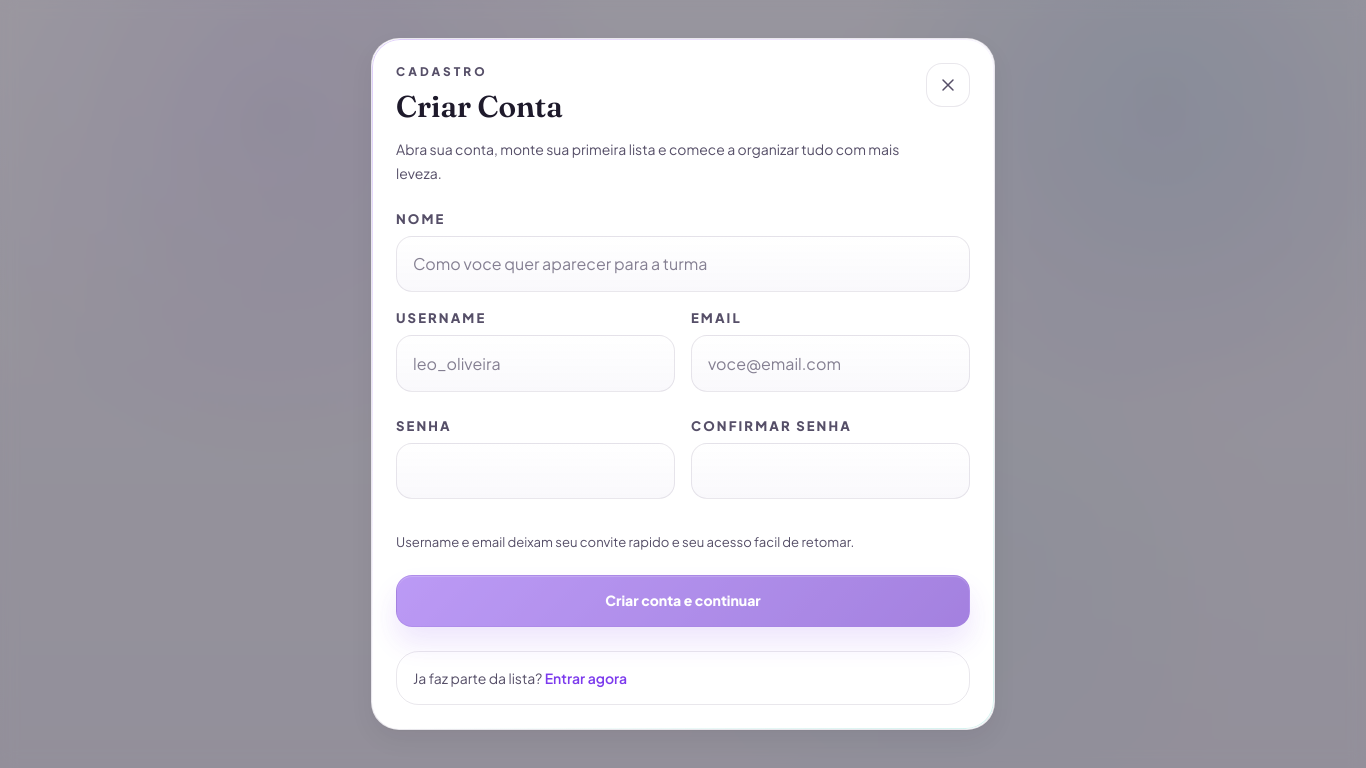
Test: RegisterModal › mostra erro retornado pela API quando o cadastro falha
This screenshot has width=1366, height=768.
Type "leo_user" into the field labelled "Username". click: (536, 364)
box: [396,335,675,392]
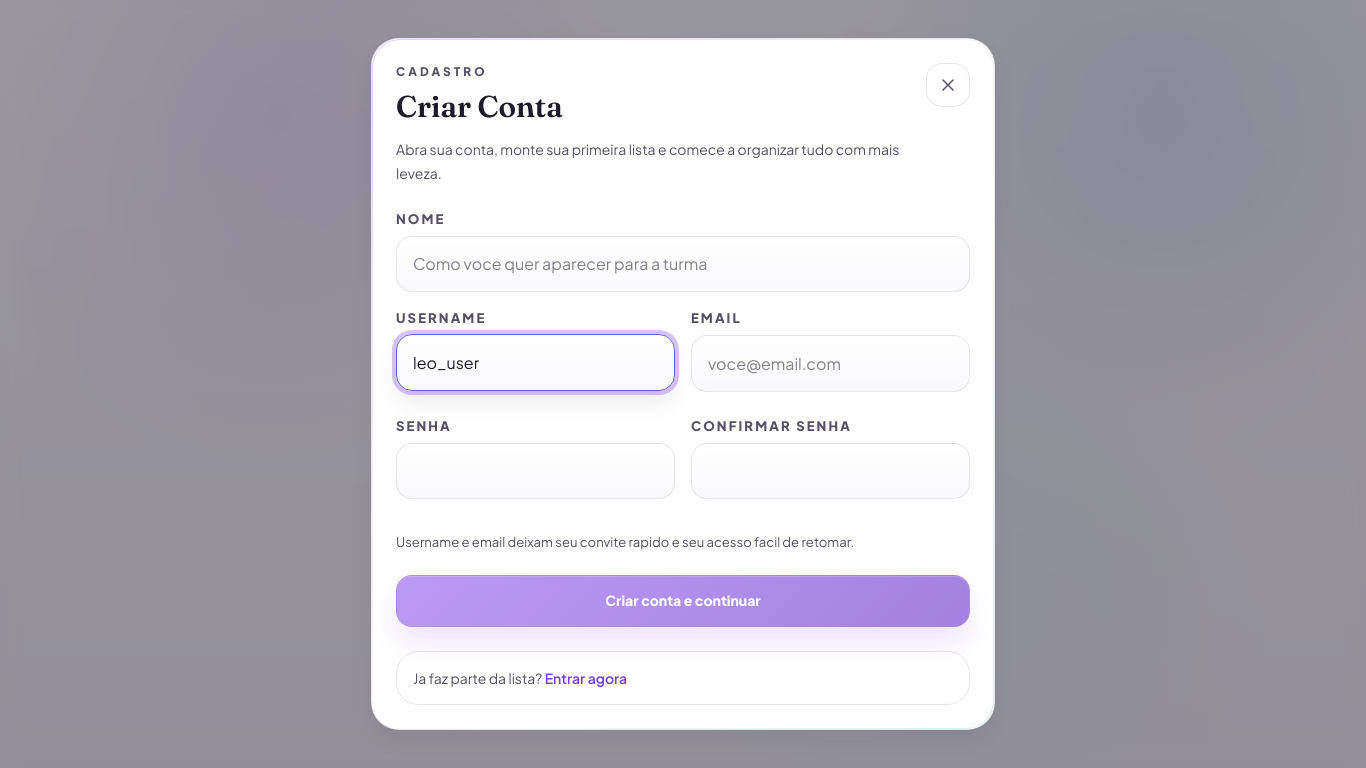
Type "leo@test.com" into the field labelled "Email". click: (830, 364)
box: [691,335,970,392]
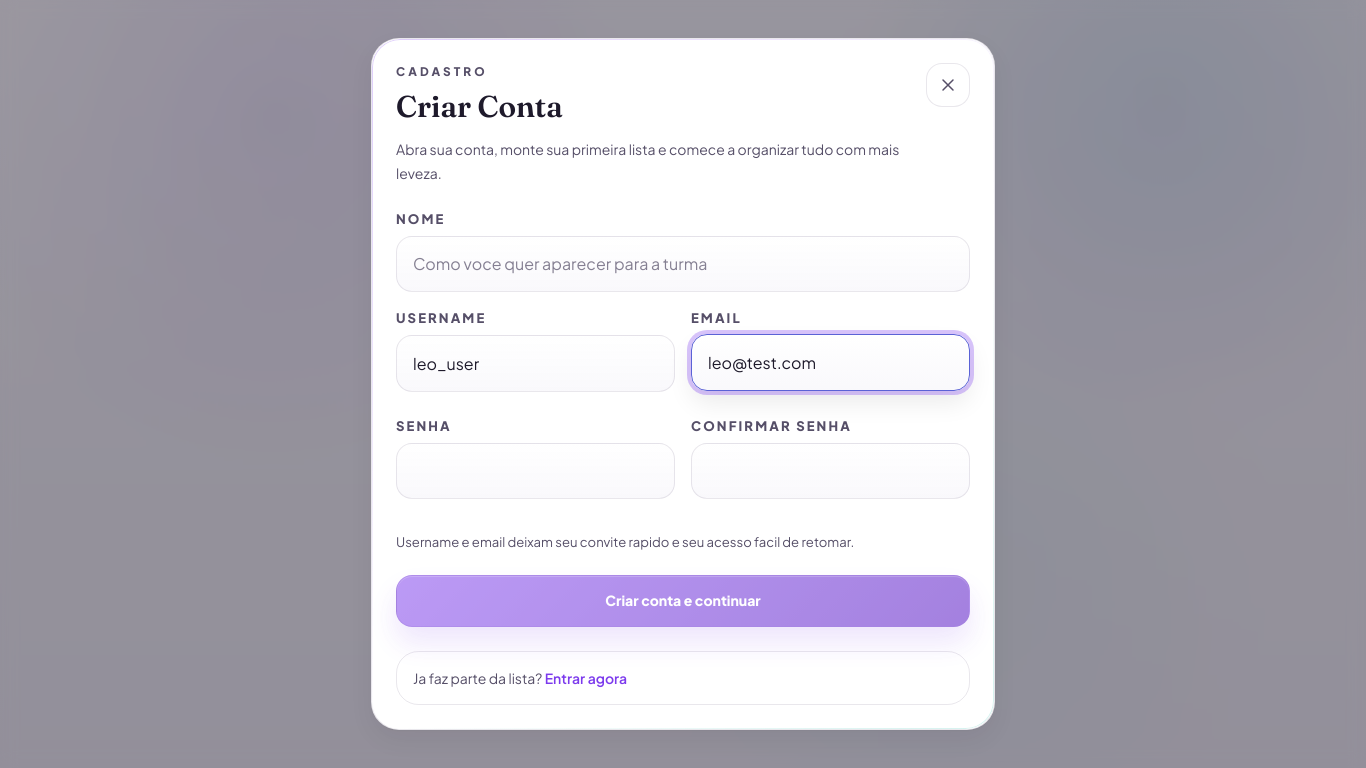
Type "123456" into the password field labelled "Senha". click: (536, 471)
box: [396,443,675,499]
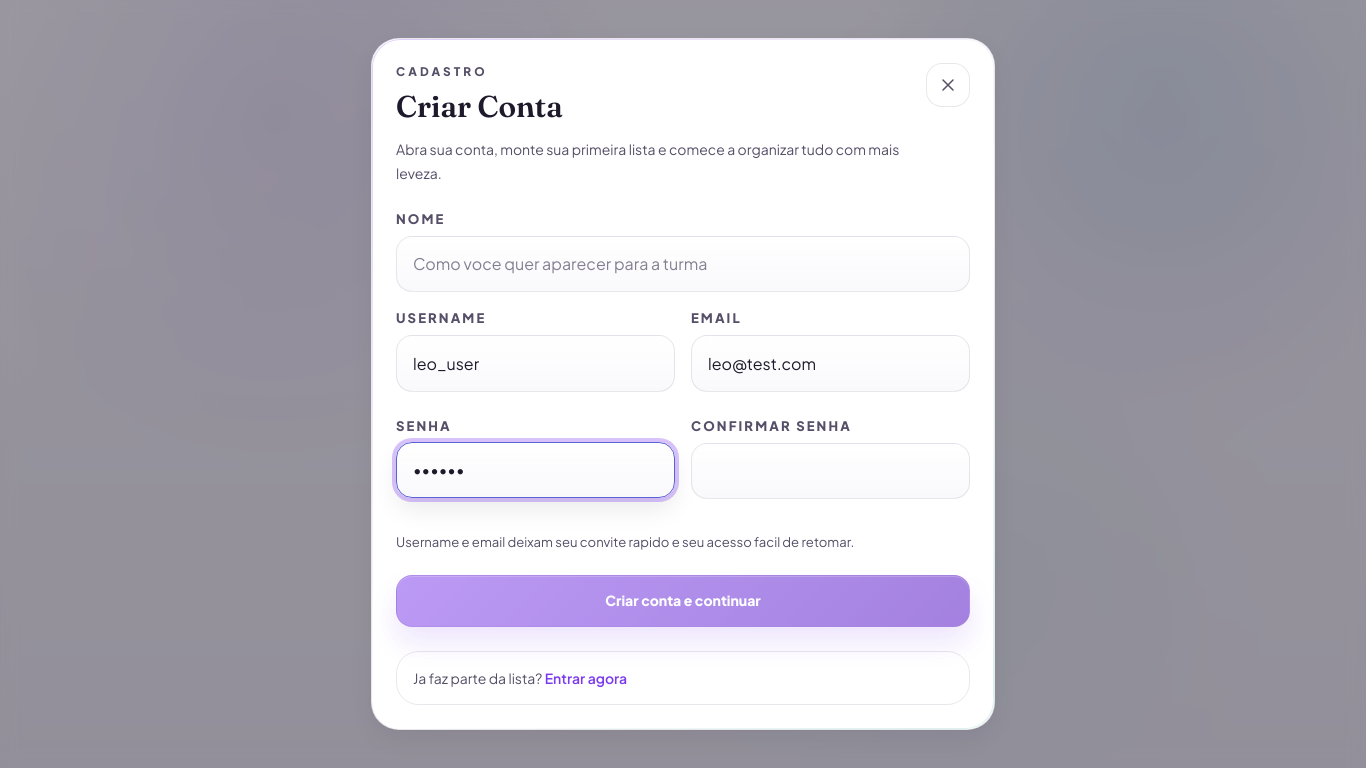
Type "123456" into the password field labelled "Confirmar senha". click: (830, 471)
box: [691,443,970,499]
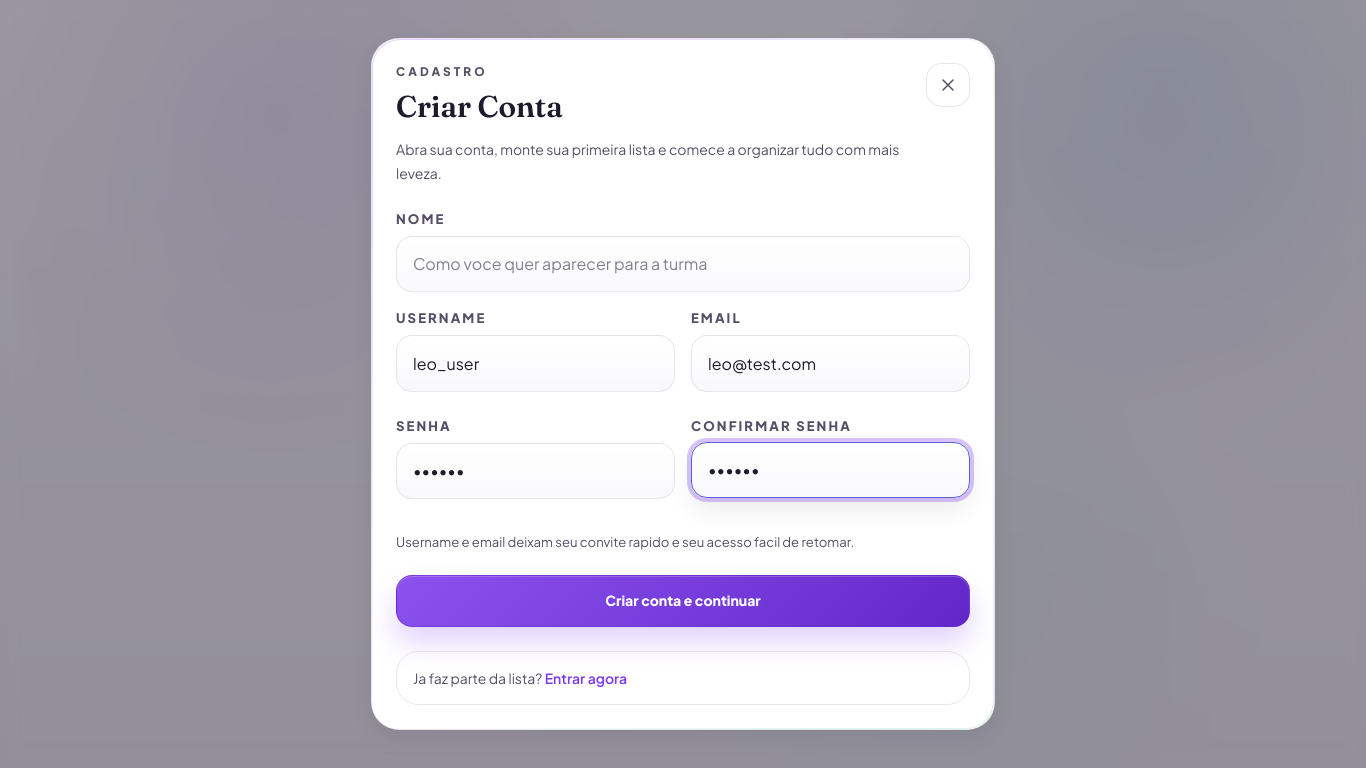
Click the button "Criar conta e continuar". click: (683, 601)
box: [396,575,970,627]
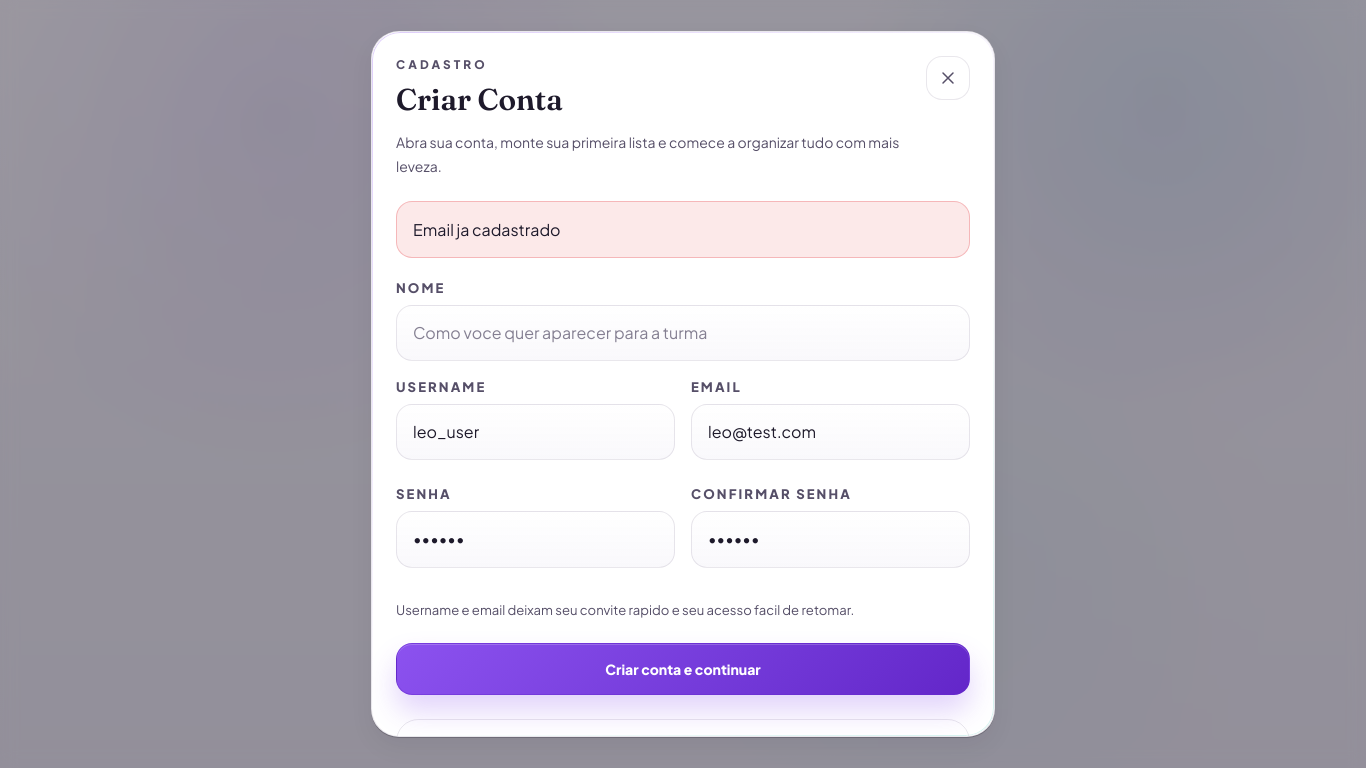
Result: the text "Email ja cadastrado" is shown at [396,202,970,258]
